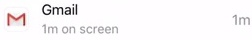name: (38, 1, 81, 19)
time: (39, 22, 61, 37)
